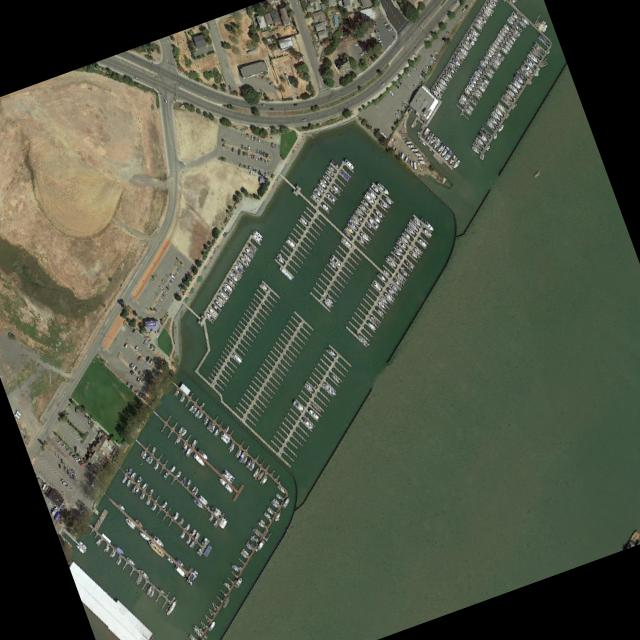large-vehicle: (406, 70, 411, 77)
ship: (147, 538, 165, 557), (218, 475, 233, 492), (186, 567, 199, 586), (322, 380, 337, 396), (166, 597, 178, 616), (222, 468, 236, 484), (420, 215, 434, 231), (192, 452, 206, 467), (279, 265, 293, 280), (151, 532, 165, 547), (376, 181, 390, 195), (202, 542, 213, 558), (301, 416, 314, 429), (210, 504, 223, 517), (174, 564, 187, 577), (251, 228, 263, 242), (219, 430, 231, 444), (368, 313, 381, 325), (383, 290, 395, 303), (408, 219, 420, 232), (192, 496, 204, 509), (124, 516, 136, 529), (218, 515, 229, 529), (221, 594, 232, 608), (347, 219, 359, 231), (357, 332, 369, 344), (197, 447, 209, 459), (519, 65, 531, 77), (522, 61, 534, 73), (533, 42, 545, 54), (311, 401, 323, 413), (367, 187, 378, 199), (368, 216, 379, 228), (360, 230, 371, 242), (330, 254, 341, 266), (493, 105, 504, 117), (496, 101, 507, 113), (501, 94, 512, 106), (528, 51, 539, 63), (393, 276, 404, 288), (293, 399, 304, 411), (198, 493, 209, 505), (232, 351, 243, 363), (208, 306, 219, 318), (431, 87, 442, 99), (234, 575, 244, 588), (281, 494, 291, 507), (364, 192, 375, 203), (344, 158, 355, 169), (339, 168, 350, 179), (353, 210, 364, 221), (480, 126, 491, 137), (525, 57, 536, 68), (386, 256, 397, 267), (330, 372, 341, 383), (239, 255, 250, 266), (231, 267, 242, 278), (139, 530, 150, 541), (341, 236, 352, 247), (372, 279, 382, 291), (486, 118, 496, 130), (491, 109, 501, 121), (509, 82, 519, 94), (396, 271, 406, 283), (75, 542, 85, 554), (256, 538, 265, 551), (274, 508, 283, 521), (351, 215, 361, 226), (326, 191, 336, 202), (478, 131, 488, 142), (473, 139, 483, 150), (512, 78, 522, 89), (531, 47, 541, 58), (397, 238, 407, 249), (413, 245, 423, 256), (406, 225, 417, 235), (412, 216, 422, 227), (309, 408, 319, 419), (304, 381, 314, 392), (234, 263, 244, 274), (247, 241, 257, 252), (245, 246, 255, 257), (205, 310, 215, 321), (219, 289, 229, 300), (192, 625, 202, 636), (126, 555, 136, 566), (434, 83, 444, 94), (465, 34, 475, 45), (452, 157, 461, 169), (207, 619, 216, 631), (433, 136, 441, 149), (379, 199, 389, 209), (286, 237, 296, 247), (489, 115, 499, 125), (507, 87, 517, 97), (514, 74, 524, 84), (400, 234, 410, 244), (409, 249, 419, 259), (115, 544, 125, 554), (140, 569, 150, 579), (458, 45, 468, 55), (448, 153, 457, 164), (252, 466, 261, 477), (539, 32, 548, 43), (463, 37, 472, 48), (468, 30, 477, 41), (484, 3, 493, 14), (425, 130, 433, 142), (436, 141, 444, 153), (257, 468, 265, 480), (238, 450, 246, 462), (374, 208, 383, 218), (372, 213, 381, 223), (356, 206, 365, 216), (343, 228, 352, 238), (356, 234, 365, 244), (367, 320, 376, 330), (276, 254, 285, 264), (311, 191, 320, 201), (387, 286, 396, 296), (520, 15, 529, 25), (471, 144, 480, 154), (504, 91, 513, 101), (516, 68, 525, 78), (402, 229, 411, 239), (405, 258, 414, 268), (390, 282, 399, 292), (418, 237, 427, 247), (423, 227, 432, 237), (327, 347, 336, 357), (176, 557, 185, 567), (229, 271, 238, 281), (216, 294, 225, 304), (224, 281, 233, 291), (227, 277, 236, 287), (437, 80, 446, 90), (439, 77, 448, 87), (449, 60, 458, 70), (454, 52, 463, 62), (457, 49, 466, 59), (470, 27, 479, 37), (478, 13, 487, 23), (480, 10, 489, 20), (323, 298, 332, 308), (440, 146, 448, 157), (429, 134, 437, 145), (444, 150, 452, 161), (228, 441, 236, 452), (50, 505, 58, 516), (345, 224, 354, 233), (380, 295, 389, 304), (476, 136, 485, 145), (390, 253, 399, 262), (260, 281, 269, 290), (243, 252, 252, 261), (252, 527, 261, 536), (231, 563, 240, 572), (135, 518, 144, 527), (277, 484, 286, 493), (117, 501, 126, 510), (445, 69, 454, 78), (447, 64, 456, 73), (452, 57, 461, 66), (461, 41, 470, 50), (532, 169, 541, 178), (378, 299, 386, 309), (396, 243, 404, 253), (209, 422, 217, 432), (476, 16, 484, 26), (79, 539, 87, 549), (359, 202, 367, 211), (361, 198, 370, 206), (371, 183, 379, 192), (331, 159, 339, 168), (326, 167, 334, 176), (333, 183, 341, 192), (300, 216, 308, 225), (329, 260, 337, 269), (322, 202, 330, 211), (378, 272, 386, 281), (393, 248, 402, 256), (400, 268, 408, 277), (383, 267, 391, 276), (419, 137, 427, 146), (214, 298, 222, 307), (223, 285, 231, 294), (157, 585, 165, 594), (511, 10, 519, 19), (462, 90, 470, 99), (464, 86, 472, 95), (466, 83, 474, 92), (468, 79, 476, 88), (442, 73, 450, 82), (474, 20, 482, 29), (482, 76, 490, 85), (485, 69, 493, 78), (513, 27, 521, 36), (507, 16, 515, 25), (501, 45, 509, 54), (497, 51, 505, 60), (482, 7, 490, 16), (326, 295, 334, 304), (185, 446, 192, 456), (180, 427, 187, 437), (197, 410, 204, 420), (206, 419, 213, 429), (422, 126, 429, 136), (497, 122, 504, 132), (236, 448, 243, 458), (261, 474, 268, 484), (249, 460, 256, 470), (245, 457, 252, 467), (146, 584, 153, 594), (136, 575, 143, 585), (328, 164, 336, 172), (313, 188, 321, 196), (213, 303, 221, 311), (240, 550, 248, 558), (519, 19, 527, 27), (458, 97, 466, 105), (460, 94, 468, 102), (470, 76, 478, 84), (478, 83, 486, 91), (499, 29, 507, 37), (497, 32, 505, 40), (501, 26, 509, 34), (503, 23, 511, 31), (489, 44, 497, 52), (485, 49, 493, 57), (491, 60, 499, 68), (479, 59, 487, 67), (474, 69, 482, 77), (203, 416, 210, 425), (188, 633, 197, 640), (319, 179, 326, 188), (213, 427, 220, 436), (200, 633, 209, 640), (271, 499, 278, 508), (465, 106, 472, 115), (480, 79, 487, 88), (54, 511, 61, 520), (149, 587, 155, 597), (385, 196, 392, 204), (365, 220, 372, 228), (377, 307, 384, 315), (177, 425, 184, 433), (329, 186, 336, 194), (194, 408, 201, 416), (237, 259, 244, 267), (247, 539, 255, 546), (245, 542, 252, 550), (258, 520, 265, 528), (264, 510, 271, 518), (267, 506, 274, 514), (273, 497, 280, 505), (173, 511, 180, 519), (201, 536, 208, 544), (467, 103, 474, 111), (470, 97, 477, 105), (474, 90, 481, 98), (472, 73, 480, 80), (496, 35, 503, 43), (503, 42, 510, 50), (505, 39, 512, 47), (507, 36, 514, 44), (511, 30, 518, 38), (494, 38, 501, 46), (495, 54, 502, 62), (493, 57, 500, 65), (488, 47, 495, 55), (492, 41, 499, 49), (482, 56, 489, 64), (478, 63, 485, 71), (191, 437, 197, 446), (182, 443, 188, 452), (122, 474, 128, 483), (131, 483, 137, 492), (116, 556, 122, 565), (242, 547, 249, 554), (515, 24, 522, 31), (487, 1, 494, 8), (192, 405, 198, 413), (176, 470, 182, 478), (213, 518, 219, 526), (136, 475, 142, 483), (140, 491, 146, 499), (151, 502, 157, 510), (162, 500, 168, 508), (180, 530, 186, 538), (186, 536, 192, 544), (191, 528, 197, 536), (194, 531, 200, 539), (189, 539, 195, 547), (488, 66, 494, 74), (41, 482, 47, 490), (148, 456, 154, 464), (170, 464, 176, 472), (182, 475, 187, 484), (104, 544, 110, 551), (324, 173, 330, 180), (321, 176, 327, 183), (149, 634, 156, 640), (185, 523, 191, 530), (167, 556, 173, 563), (253, 534, 259, 541), (224, 580, 230, 587), (130, 470, 136, 477), (141, 481, 147, 488), (134, 486, 140, 493), (146, 497, 152, 504), (179, 517, 185, 524), (196, 546, 202, 553), (476, 87, 482, 94), (145, 454, 151, 461), (489, 0, 496, 6), (180, 394, 185, 402), (189, 403, 194, 411), (493, 131, 498, 139), (414, 151, 422, 156), (418, 159, 426, 164), (404, 154, 409, 162), (194, 487, 199, 495), (209, 513, 214, 521), (243, 455, 248, 463), (96, 536, 101, 544), (111, 549, 116, 557), (154, 461, 159, 469), (260, 518, 266, 524), (276, 493, 282, 499), (510, 34, 516, 40), (485, 54, 491, 60), (477, 68, 483, 74), (175, 389, 180, 396), (176, 436, 181, 443), (225, 425, 230, 432), (191, 484, 196, 491), (126, 478, 131, 485), (142, 451, 147, 458), (140, 449, 145, 456), (151, 445, 156, 452), (148, 487, 153, 493), (510, 14, 515, 20), (163, 471, 168, 477), (481, 152, 485, 159), (187, 478, 191, 485), (486, 144, 490, 150), (408, 143, 414, 147), (411, 147, 419, 150), (418, 155, 424, 159), (405, 140, 412, 143), (410, 159, 413, 166), (398, 150, 401, 157), (449, 148, 453, 153), (446, 145, 450, 150), (402, 134, 406, 138), (314, 383, 317, 388), (495, 0, 499, 3), (140, 461, 144, 464), (503, 0, 506, 2), (239, 566, 242, 568)
small-vehicle: (170, 273, 176, 280), (418, 73, 424, 80), (430, 53, 436, 59), (228, 84, 232, 92), (143, 338, 148, 344), (413, 83, 418, 89), (389, 89, 394, 95), (395, 112, 400, 118), (421, 69, 426, 75), (398, 79, 403, 85), (130, 361, 135, 367), (57, 438, 63, 443), (90, 482, 95, 488), (125, 380, 130, 386), (149, 357, 153, 364), (131, 327, 136, 332), (158, 284, 163, 289), (170, 276, 175, 281), (176, 266, 181, 271), (175, 290, 180, 295), (180, 281, 185, 286), (186, 270, 191, 275), (189, 266, 194, 271), (190, 264, 195, 269), (429, 58, 434, 63), (411, 65, 416, 70), (401, 104, 406, 109), (402, 101, 407, 106), (397, 108, 402, 113), (159, 295, 163, 301), (156, 300, 160, 306), (146, 354, 150, 360), (134, 344, 138, 350), (141, 372, 145, 378), (175, 268, 179, 274), (387, 27, 393, 31), (395, 82, 399, 88), (132, 363, 136, 369), (138, 377, 142, 383), (238, 147, 241, 154), (271, 140, 274, 147), (255, 155, 259, 160), (179, 160, 184, 164), (157, 366, 161, 371), (153, 306, 157, 311), (135, 312, 139, 317), (192, 262, 196, 267), (134, 365, 138, 370), (161, 292, 165, 297), (162, 278, 166, 283), (165, 284, 169, 289), (168, 280, 172, 285), (169, 278, 173, 283), (183, 279, 187, 284), (259, 87, 263, 92), (454, 0, 459, 4), (423, 68, 427, 73), (425, 64, 429, 69), (384, 21, 389, 25), (381, 80, 385, 85), (374, 28, 379, 32), (360, 51, 365, 55), (266, 76, 270, 81), (421, 72, 425, 77), (129, 368, 133, 373), (73, 455, 78, 459), (80, 461, 85, 465), (69, 451, 74, 455), (65, 447, 70, 451), (61, 442, 66, 446), (135, 389, 139, 394), (133, 388, 137, 393), (131, 370, 135, 375), (136, 375, 140, 380), (252, 165, 255, 171), (253, 153, 256, 159), (251, 152, 254, 158), (247, 152, 250, 158), (164, 97, 167, 103), (239, 161, 242, 167), (248, 164, 251, 170), (264, 170, 267, 176), (264, 157, 267, 163), (275, 142, 278, 148), (138, 354, 141, 360), (385, 24, 391, 27), (321, 39, 324, 45), (342, 1, 345, 7), (74, 475, 77, 481), (73, 469, 76, 475), (69, 472, 72, 478), (66, 468, 69, 474), (74, 445, 77, 451), (130, 383, 133, 389), (57, 453, 60, 459), (58, 461, 61, 467), (62, 490, 65, 496), (134, 75, 138, 79), (164, 289, 168, 293), (444, 34, 448, 38), (261, 74, 265, 78), (462, 7, 466, 11), (371, 20, 375, 24), (76, 457, 80, 461), (78, 459, 82, 463), (241, 143, 244, 148), (267, 152, 270, 157), (251, 134, 254, 139), (302, 117, 307, 120), (138, 369, 141, 374), (376, 36, 381, 39), (269, 81, 274, 84), (355, 13, 358, 18), (377, 39, 382, 42), (465, 3, 468, 8), (71, 453, 76, 456), (60, 457, 63, 462), (64, 412, 69, 415), (62, 481, 67, 484), (65, 483, 70, 486), (75, 405, 77, 412), (88, 417, 90, 424), (243, 149, 245, 155), (259, 168, 261, 174), (258, 136, 260, 142), (254, 135, 256, 141), (258, 155, 260, 161), (259, 149, 261, 155), (261, 149, 263, 155), (265, 151, 267, 157), (294, 102, 298, 105), (446, 30, 450, 33), (372, 23, 376, 26), (260, 2, 264, 5), (379, 42, 383, 45), (72, 473, 74, 479), (64, 465, 66, 471), (55, 450, 57, 456), (60, 478, 64, 481), (248, 145, 250, 150), (232, 146, 234, 151), (257, 149, 259, 154), (263, 150, 265, 155), (71, 467, 73, 472), (261, 103, 265, 105), (269, 107, 273, 109), (270, 0, 274, 2), (256, 168, 257, 172)
